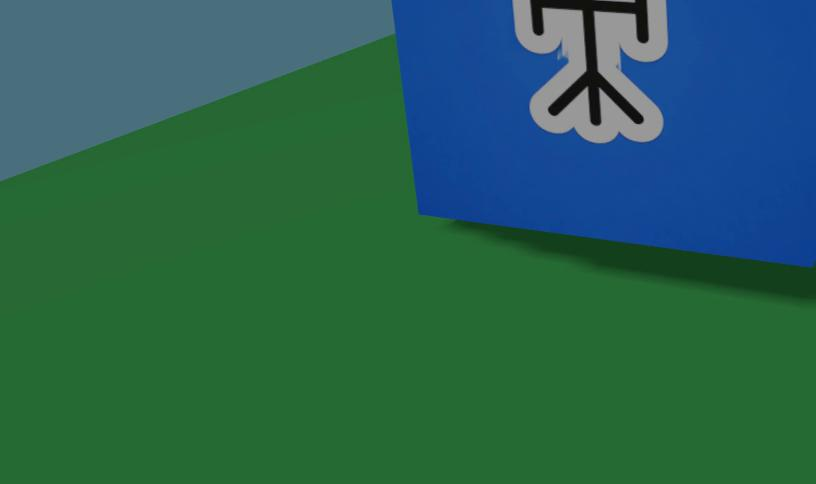KFS_REAL: (391, 0, 816, 264), (513, 0, 667, 143), (513, 0, 667, 142)
